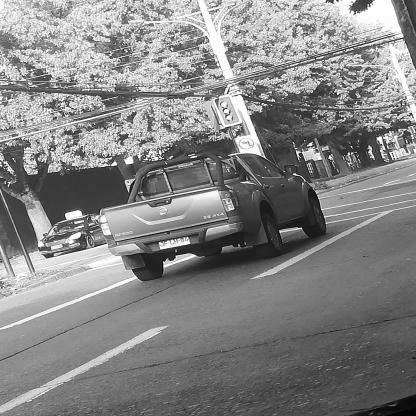Patente: (154, 233, 195, 254)
